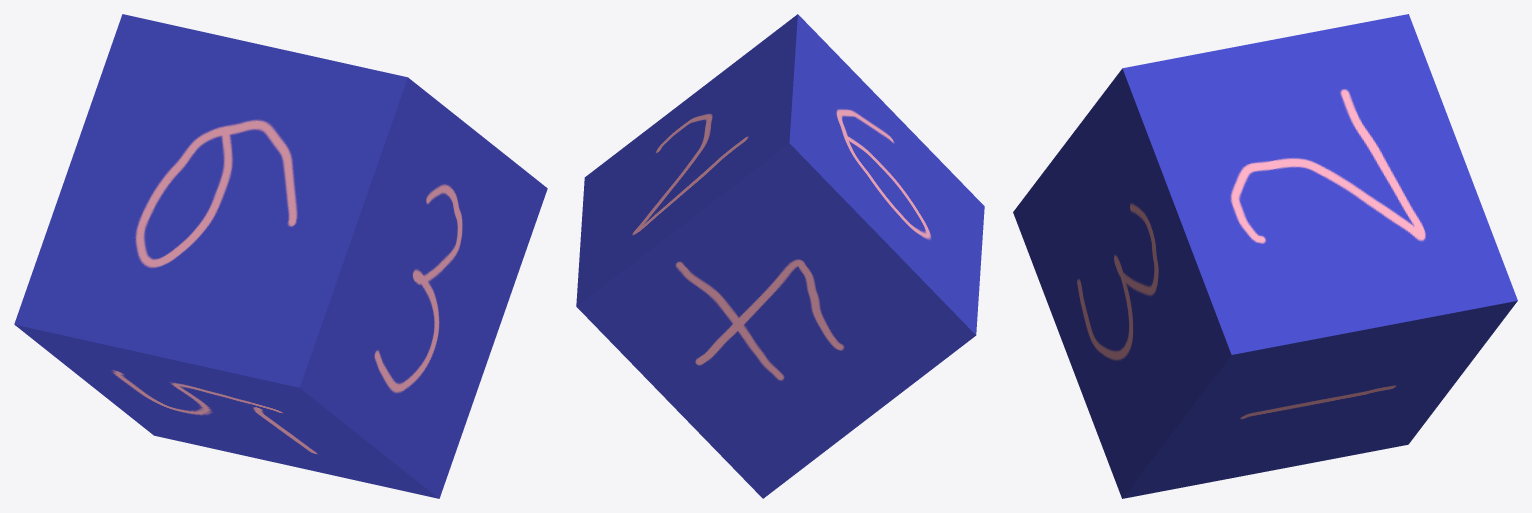
The model's file is asd.fbx.
3 views of the same model, side by side, from view 1: azimuth 30°, elevation 25°; view 2: azimuth 150°, elevation 25°; view 3: azimuth 270°, elevation 25° (orthographic). The views are drawn at different scales.
Parts seen in each view (by area): view 1: root; view 2: root; view 3: root.
Part boxes in pixels (<box>): root: <box>14,14,547,498</box>; root: <box>576,14,984,498</box>; root: <box>1013,14,1517,498</box>.
Size of the model in its own units: 0.3429 by 0.2894 by 0.3104.
Materials: 1 (1 with a texture image).
